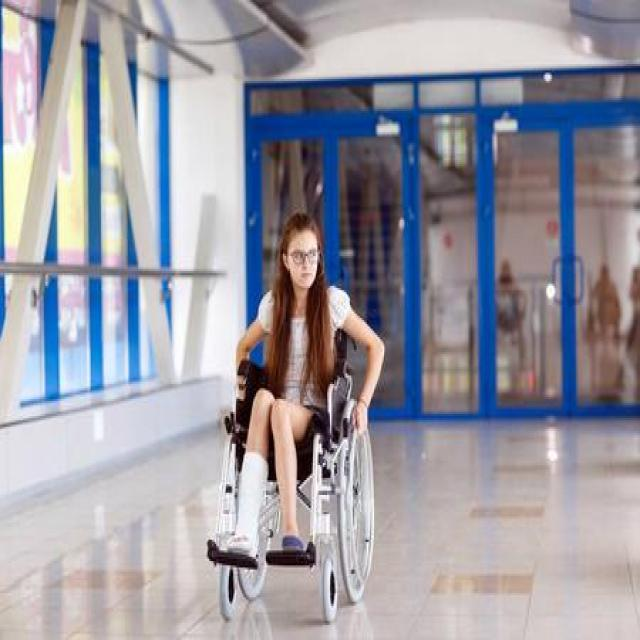wheelchairs: (195, 309, 381, 624)
